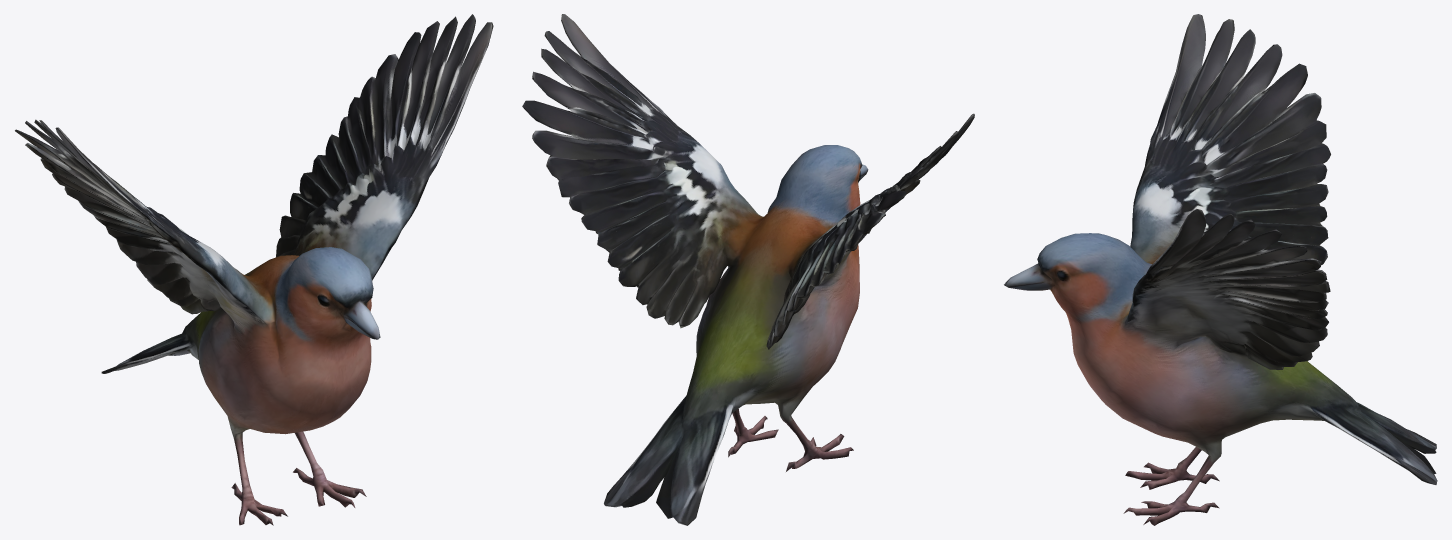
3 views of the same model, side by side, from view 1: azimuth 30°, elevation 25°; view 2: azimuth 150°, elevation 25°; view 3: azimuth 270°, elevation 25° (orthographic). The views are drawn at different scales.
Parts seen in each view (by area): view 1: tripo_node_b24884d2-254e-43ba-914e-e9910e3ceae2; view 2: tripo_node_b24884d2-254e-43ba-914e-e9910e3ceae2; view 3: tripo_node_b24884d2-254e-43ba-914e-e9910e3ceae2.
Part boxes in pixels (x1,y1,x2,y2): tripo_node_b24884d2-254e-43ba-914e-e9910e3ceae2: (15,14,493,525); tripo_node_b24884d2-254e-43ba-914e-e9910e3ceae2: (522,14,974,525); tripo_node_b24884d2-254e-43ba-914e-e9910e3ceae2: (1004,14,1437,525).
Size of the model in its own units: 1 by 0.9203 by 0.9334.
1 material, 1 textured.
